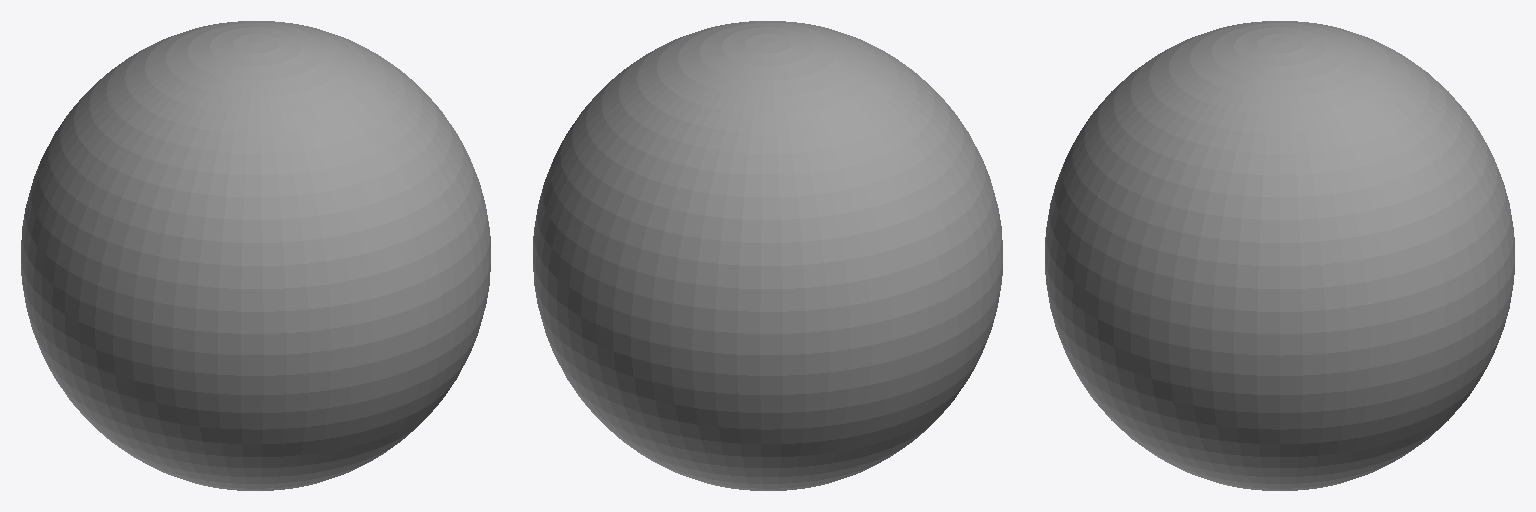
Rendered from 360Pic.obj.
3 renders of one model, left to right at view 1: azimuth 30°, elevation 25°; view 2: azimuth 150°, elevation 25°; view 3: azimuth 270°, elevation 25°, orthographic.
Parts seen in each view (by area): view 1: Sphere_Sphere.001; view 2: Sphere_Sphere.001; view 3: Sphere_Sphere.001.
Part boxes in pixels (x1,y1,x2,y2): Sphere_Sphere.001: (21,21,490,490); Sphere_Sphere.001: (533,21,1002,490); Sphere_Sphere.001: (1045,21,1514,490).
Bounding box in the file's own units: 2 × 2 × 2.